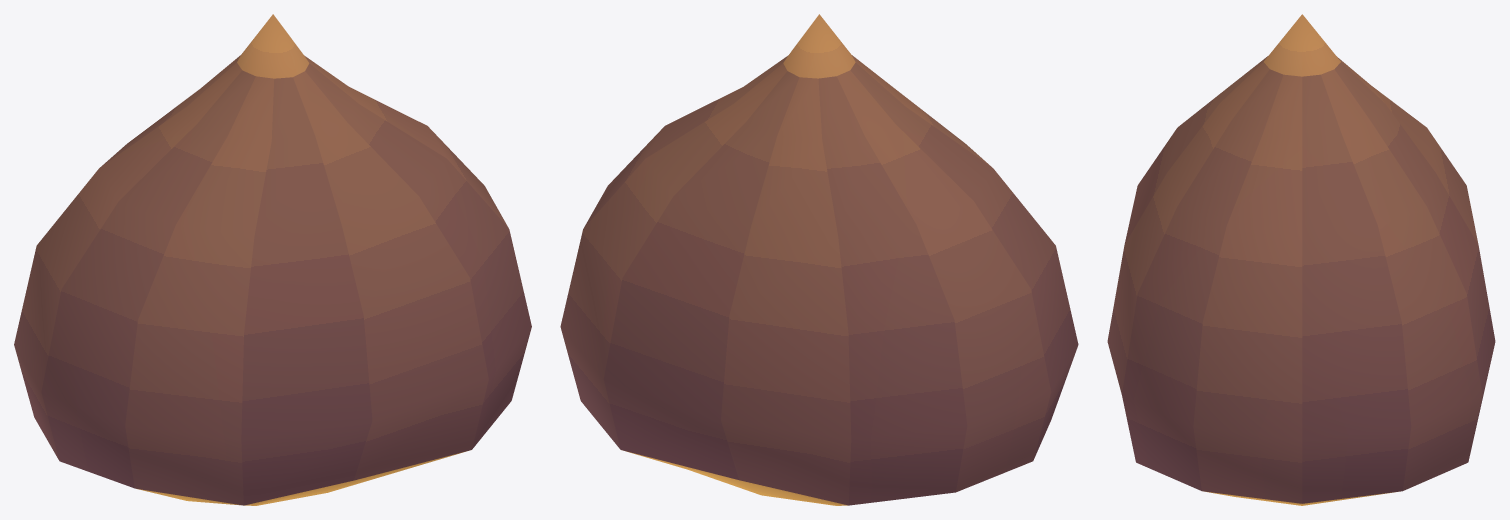
Rendered from brown_fruit.glb.
3 views of the same model, side by side, from view 1: azimuth 30°, elevation 25°; view 2: azimuth 150°, elevation 25°; view 3: azimuth 270°, elevation 25° (orthographic).
Visible parts, largest first — view 1: mesh_chestnut_01 - Default.001_0; view 2: mesh_chestnut_01 - Default.001_0; view 3: mesh_chestnut_01 - Default.001_0.
Part boxes in pixels (x1=…): mesh_chestnut_01 - Default.001_0: x1=14, y1=14, x2=531, y2=505; mesh_chestnut_01 - Default.001_0: x1=560, y1=14, x2=1078, y2=505; mesh_chestnut_01 - Default.001_0: x1=1107, y1=14, x2=1495, y2=505.
Bounding box in the file's own units: 102 × 96.11 × 75.59.
Materials: 1 (1 with a texture image).
